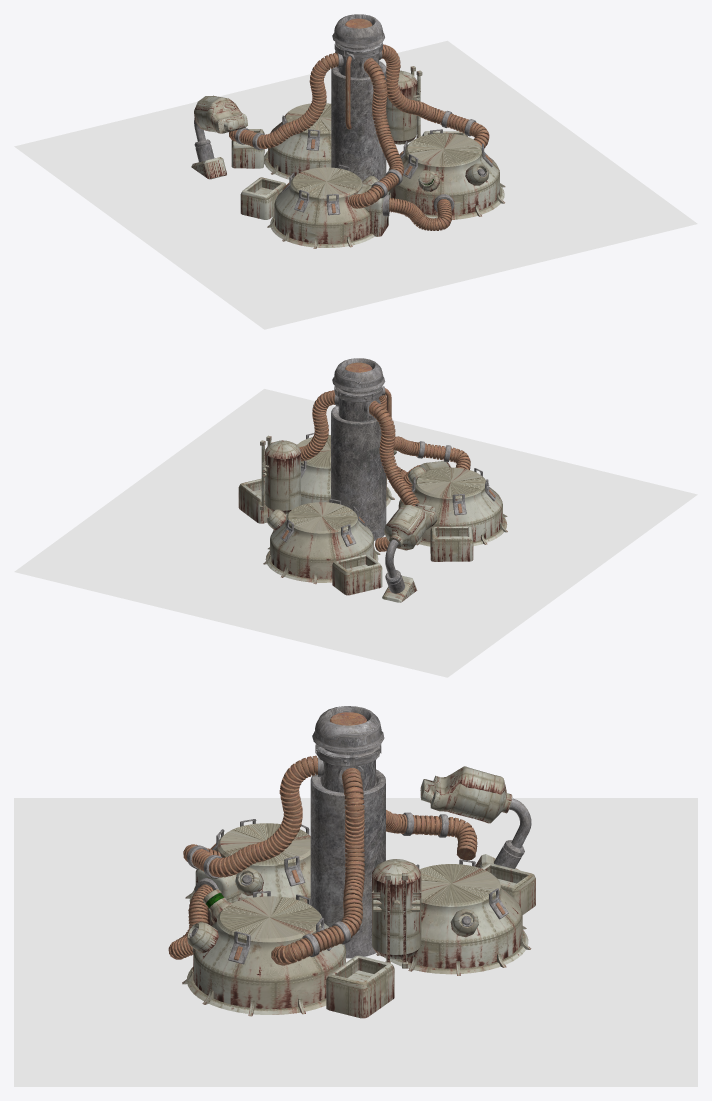
The model's file is static.glb.
3 renders of one model, top to bottom at view 1: azimuth 30°, elevation 25°; view 2: azimuth 150°, elevation 25°; view 3: azimuth 270°, elevation 25°, orthographic. The views are drawn at different scales.
Visible parts, largest first — view 1: scorch, Cylinder_7, Cylinder_5, Cylinder_3_2, Cylinder_3, Loft_remesh, Cube_21, Cylinder_1_remesh, Cylinder_8, Cube_2, Cube_61, Cube (+1 smaller); view 2: scorch, Cylinder_3, Cylinder_3_2, Cylinder_5, Cylinder_8, Cube_2, Loft_remesh, Cylinder_7, Cube_21, Cylinder_1_remesh, Cube_40, Cylinder_10 (+1 smaller); view 3: scorch, Cylinder_7, Cylinder_3, Cylinder_3_2, Cylinder_5, Loft_remesh, Cube_40, Cylinder_8, Cylinder_1_remesh, Cube_2, Sphere, Cylinder_1_3 (+6 smaller).
Boxes of the visible parts, <box> form: scorch: <box>14,40,697,329</box>; Cylinder_7: <box>388,133,499,215</box>; Cylinder_5: <box>274,167,370,243</box>; Cylinder_3_2: <box>331,60,386,181</box>; Cylinder_3: <box>268,103,331,175</box>; Loft_remesh: <box>194,95,247,133</box>; Cube_21: <box>240,177,285,219</box>; Cylinder_1_remesh: <box>332,14,384,48</box>; Cylinder_8: <box>386,82,417,140</box>; Cube_2: <box>231,129,264,168</box>; Cube_61: <box>357,184,388,236</box>; Cube: <box>191,157,226,179</box>; scorch: <box>14,389,697,677</box>; Cylinder_3: <box>270,502,373,578</box>; Cylinder_3_2: <box>331,406,386,540</box>; Cylinder_5: <box>398,467,502,542</box>; Cylinder_8: <box>265,451,300,510</box>; Cube_2: <box>332,554,382,595</box>; Loft_remesh: <box>384,503,437,550</box>; Cylinder_7: <box>297,435,386,504</box>; Cube_21: <box>430,526,473,561</box>; Cylinder_1_remesh: <box>332,358,385,392</box>; Cube_40: <box>238,478,287,523</box>; Cylinder_10: <box>338,389,378,421</box>; scorch: <box>14,798,697,1086</box>; Cylinder_7: <box>193,896,345,1008</box>; Cylinder_3: <box>401,864,522,968</box>; Cylinder_3_2: <box>310,769,385,958</box>; Cylinder_5: <box>195,823,310,902</box>; Loft_remesh: <box>420,766,512,823</box>; Cube_40: <box>326,955,394,1018</box>; Cylinder_8: <box>372,872,421,954</box>; Cylinder_1_remesh: <box>312,706,384,752</box>; Cube_2: <box>481,863,535,914</box>; Sphere: <box>372,859,421,959</box>; Cylinder_1_3: <box>187,967,326,1014</box>.
Bounding box in the file's own units: 11.03 × 4.96 × 11.03.
5 materials, 5 textured.
